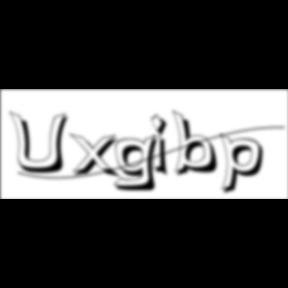U: (10, 110, 74, 176)
b: (172, 109, 224, 179)
g: (114, 134, 166, 194)
i: (151, 112, 175, 180)
p: (220, 132, 270, 198)
x: (70, 132, 124, 181)
